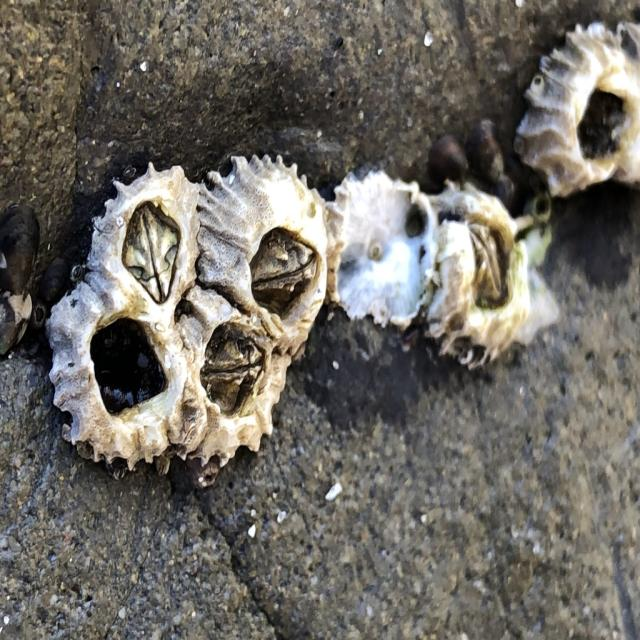barnacles: (43, 285, 185, 467), (510, 23, 640, 206), (416, 182, 538, 374), (194, 149, 317, 336), (183, 316, 292, 478), (87, 154, 193, 309)
